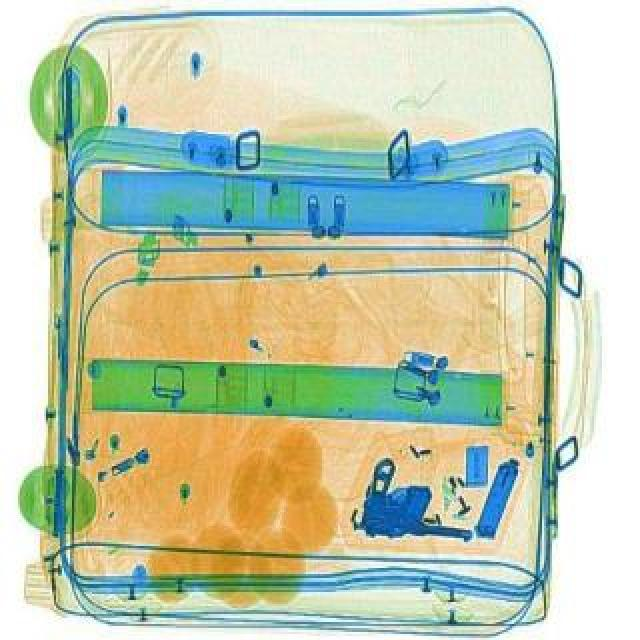gun: (352, 450, 486, 554)
